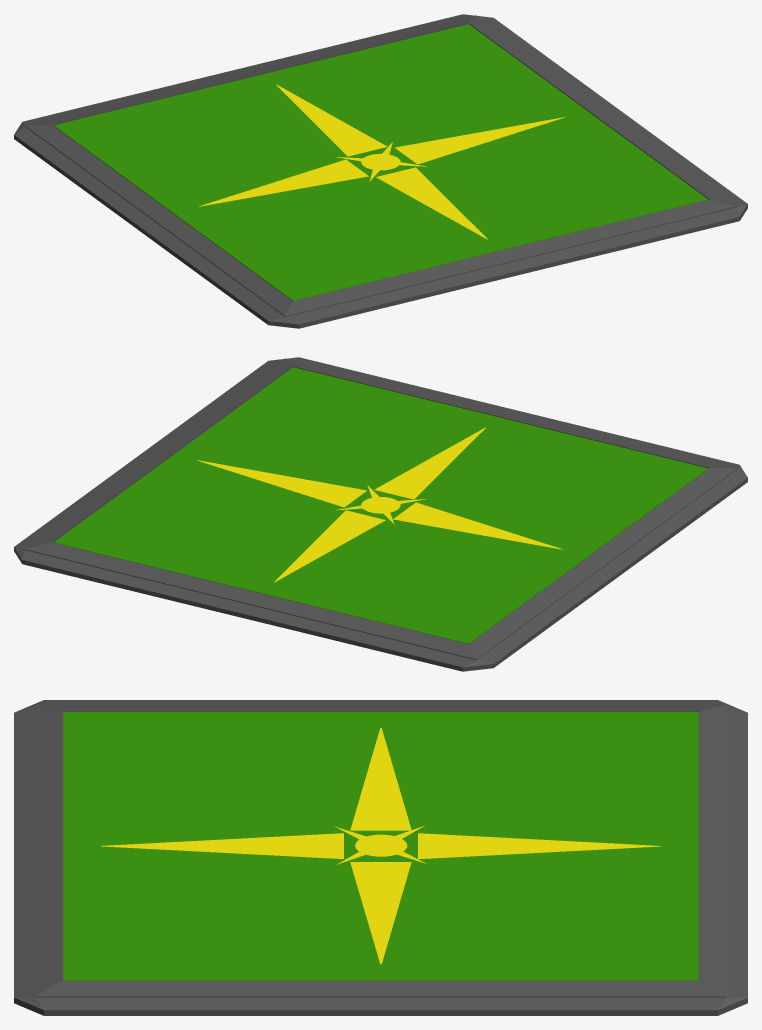
The model's file is SpikePad.fbx.
3 views of the same model, one above another, from view 1: azimuth 30°, elevation 25°; view 2: azimuth 150°, elevation 25°; view 3: azimuth 270°, elevation 25° (orthographic). The views are drawn at different scales.
Parts seen in each view (by area): view 1: Plane, Cube; view 2: Plane, Cube; view 3: Plane, Cube, Plane.001.
Part boxes in pixels (x1,y1,x2,y2): Plane: [53, 24, 708, 300]; Cube: [14, 14, 747, 328]; Plane: [53, 367, 708, 643]; Cube: [14, 357, 747, 671]; Plane: [63, 711, 698, 980]; Cube: [14, 700, 747, 1015]; Plane.001: [334, 825, 426, 864].
Size of the model in its own units: 200 by 7.22 by 200.
